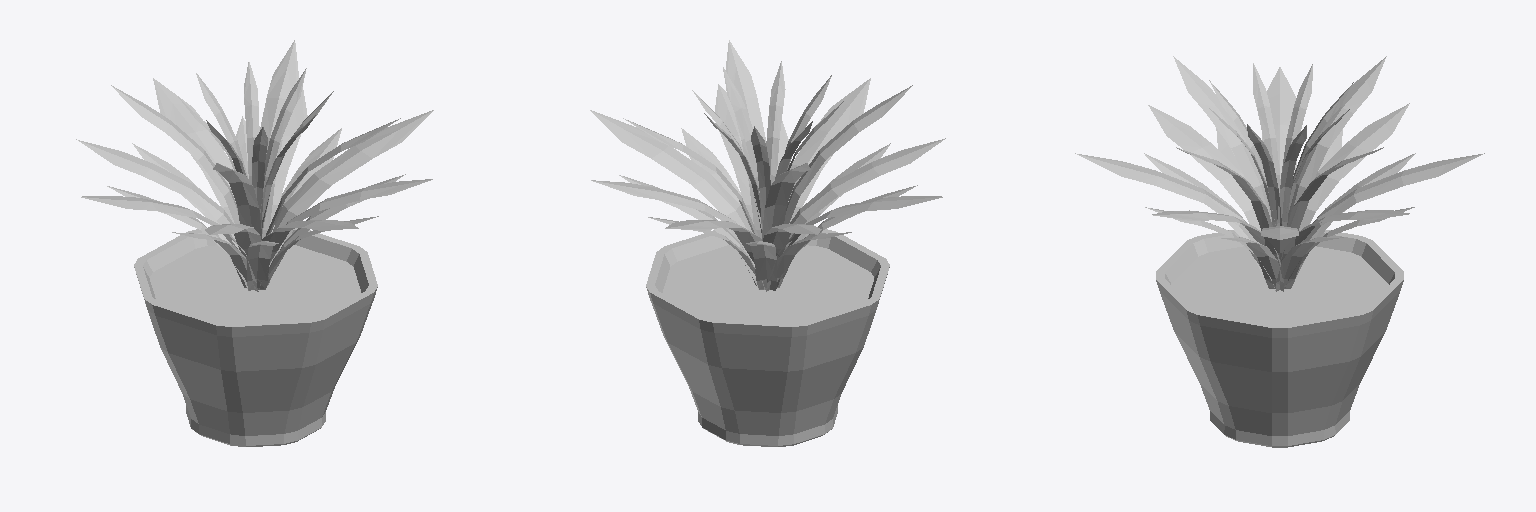
The model's file is littlePlant.obj.
3 renders of one model, left to right at view 1: azimuth 30°, elevation 25°; view 2: azimuth 150°, elevation 25°; view 3: azimuth 270°, elevation 25°, orthographic.
Parts seen in each view (by area): view 1: 3_3.001, 1_1.001, 2_2.001; view 2: 3_3.001, 1_1.001, 2_2.001; view 3: 3_3.001, 1_1.001, 2_2.001.
Part boxes in pixels (left/top/right/bottom): 3_3.001: left=76, top=40, right=433, bottom=291; 1_1.001: left=134, top=228, right=377, bottom=446; 2_2.001: left=150, top=243, right=360, bottom=322; 3_3.001: left=590, top=40, right=945, bottom=291; 1_1.001: left=646, top=228, right=889, bottom=446; 2_2.001: left=663, top=243, right=873, bottom=322; 3_3.001: left=1075, top=56, right=1484, bottom=291; 1_1.001: left=1156, top=230, right=1403, bottom=447; 2_2.001: left=1171, top=246, right=1388, bottom=323.
Bounding box in the file's own units: 26.6 × 23.19 × 26.6.